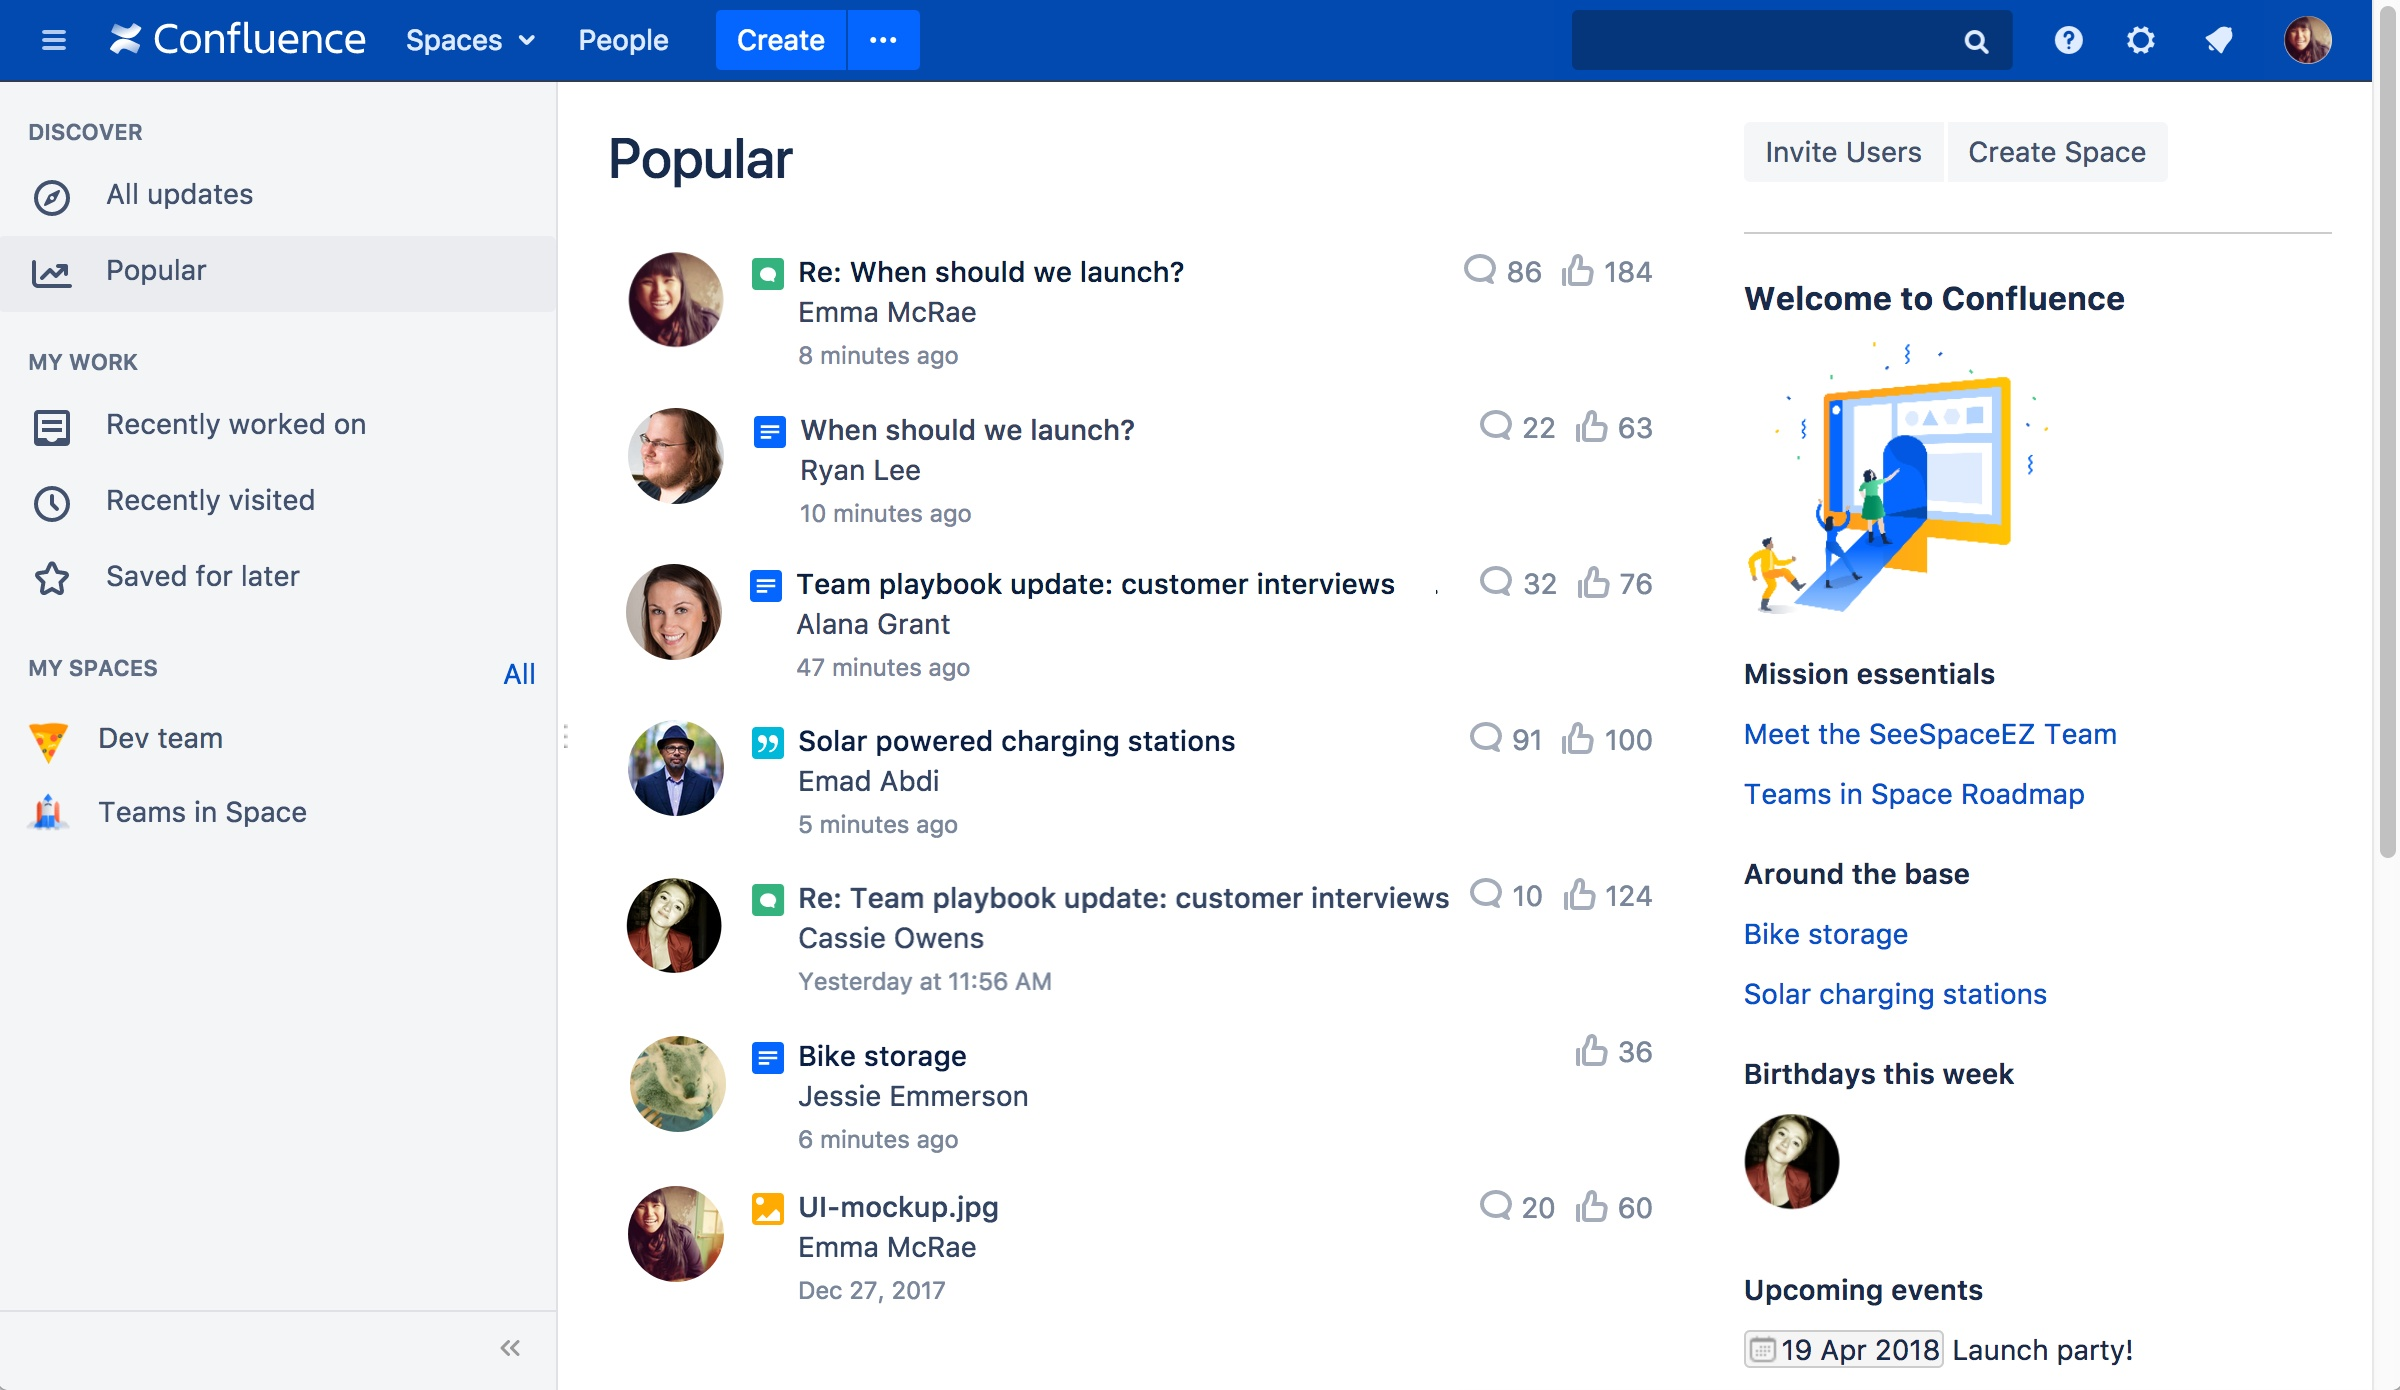button_create: (711, 8, 852, 79)
search_box: (1560, 3, 2021, 84)
